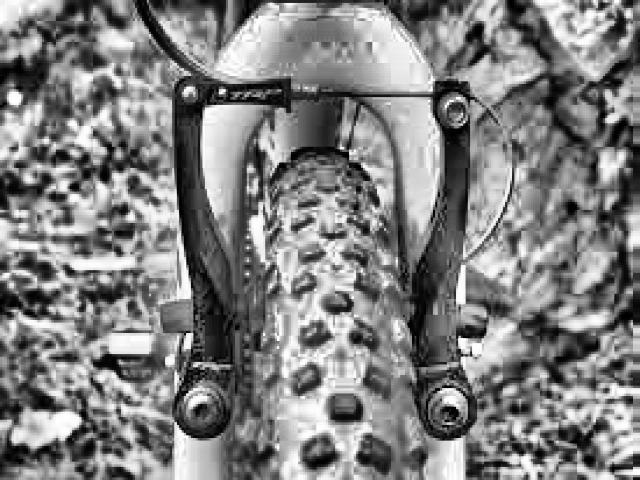rim_brake: (156, 75, 491, 444)
